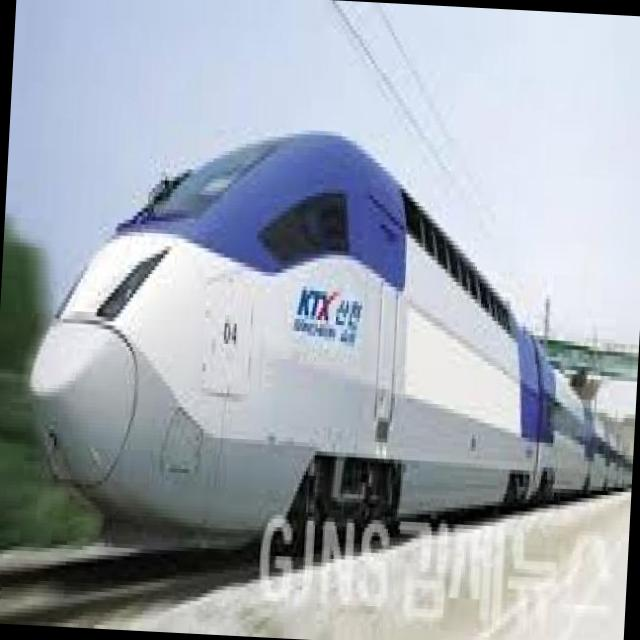trains: (28, 132, 633, 576)
